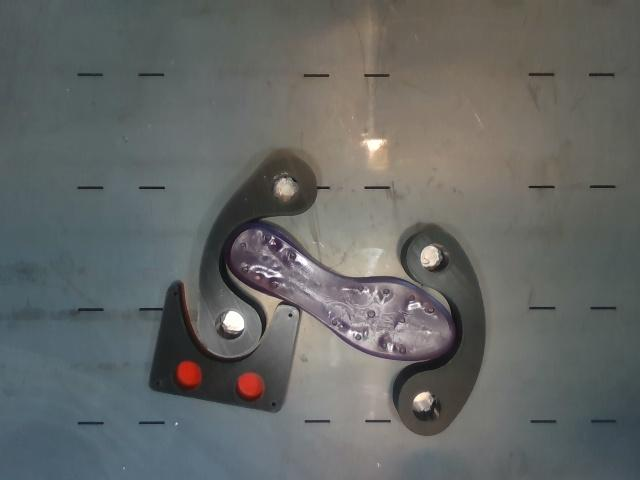shoes: (227, 224, 456, 360)
